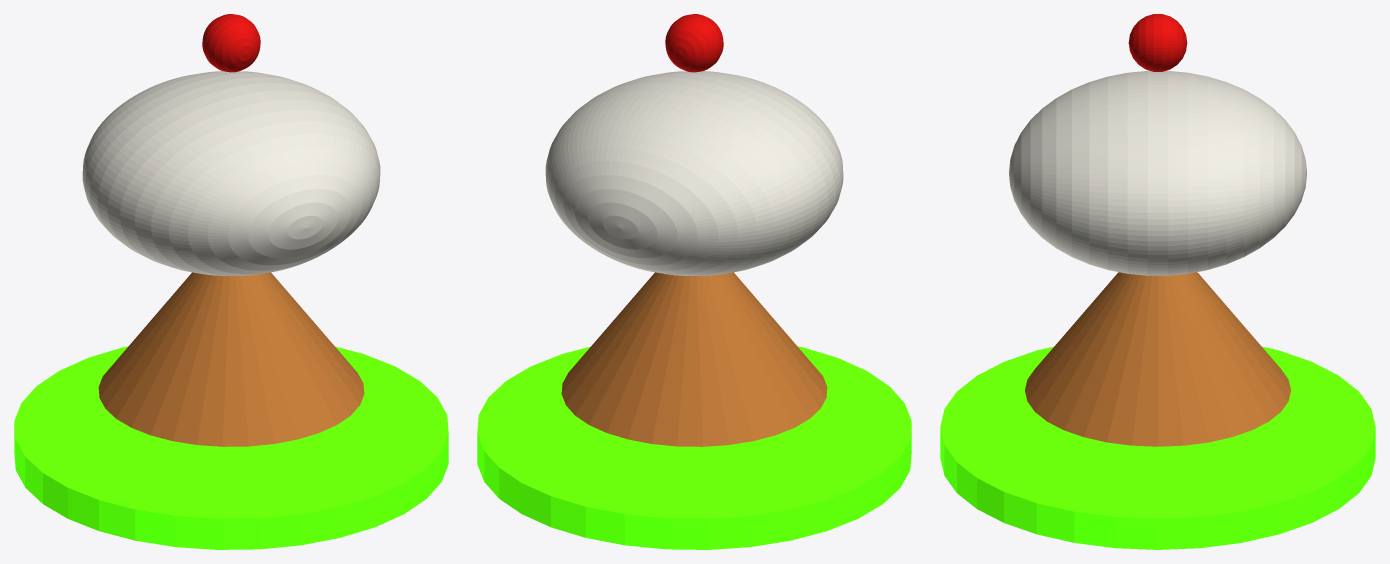
Rendered from food_cupcake.dae.
3 views of the same model, side by side, from view 1: azimuth 30°, elevation 25°; view 2: azimuth 150°, elevation 25°; view 3: azimuth 270°, elevation 25° (orthographic).
Visible parts, largest first — view 1: 01_07_Popular_Food_Cupcake_ROOT_base, 01_07_Popular_Food_Cupcake_part_02, 01_07_Popular_Food_Cupcake_part_01, 01_07_Popular_Food_Cupcake_part_03; view 2: 01_07_Popular_Food_Cupcake_ROOT_base, 01_07_Popular_Food_Cupcake_part_02, 01_07_Popular_Food_Cupcake_part_01, 01_07_Popular_Food_Cupcake_part_03; view 3: 01_07_Popular_Food_Cupcake_ROOT_base, 01_07_Popular_Food_Cupcake_part_02, 01_07_Popular_Food_Cupcake_part_01, 01_07_Popular_Food_Cupcake_part_03.
Part boxes in pixels (left/top/right/bottom): 01_07_Popular_Food_Cupcake_ROOT_base: left=14, top=346, right=448, bottom=549; 01_07_Popular_Food_Cupcake_part_02: left=82, top=71, right=380, bottom=275; 01_07_Popular_Food_Cupcake_part_01: left=98, top=272, right=364, bottom=446; 01_07_Popular_Food_Cupcake_part_03: left=202, top=14, right=260, bottom=72; 01_07_Popular_Food_Cupcake_ROOT_base: left=477, top=346, right=911, bottom=549; 01_07_Popular_Food_Cupcake_part_02: left=545, top=71, right=843, bottom=275; 01_07_Popular_Food_Cupcake_part_01: left=561, top=272, right=827, bottom=446; 01_07_Popular_Food_Cupcake_part_03: left=665, top=14, right=723, bottom=72; 01_07_Popular_Food_Cupcake_ROOT_base: left=940, top=346, right=1375, bottom=549; 01_07_Popular_Food_Cupcake_part_02: left=1009, top=70, right=1306, bottom=275; 01_07_Popular_Food_Cupcake_part_01: left=1025, top=272, right=1290, bottom=446; 01_07_Popular_Food_Cupcake_part_03: left=1128, top=14, right=1187, bottom=71.
Bounding box in the file's own units: 0.76 × 0.85 × 0.76.
